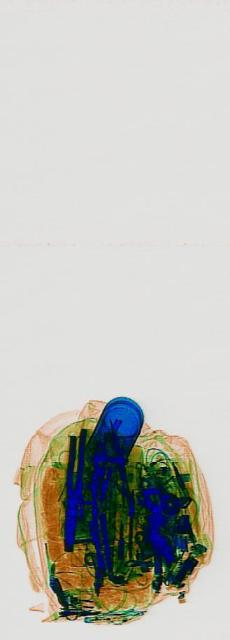Pliers: (58, 420, 84, 558)
